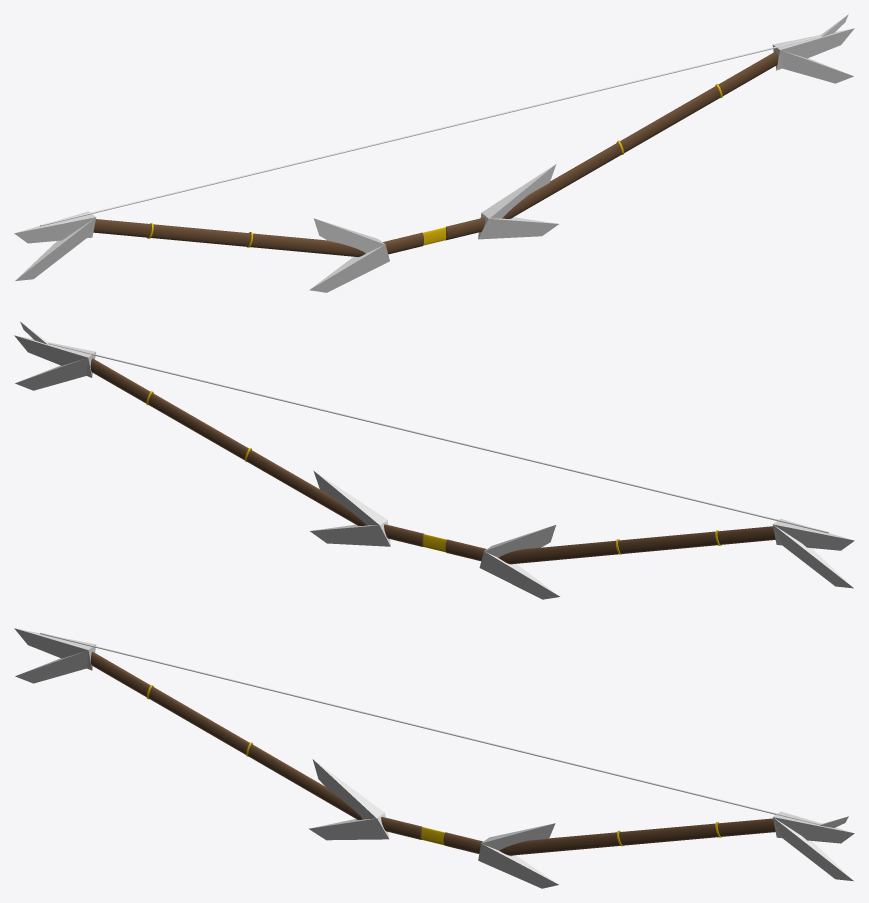
Rendered from Bow.fbx.
The picture shows the model from 3 angles, top to bottom: view 1: azimuth 30°, elevation 25°; view 2: azimuth 150°, elevation 25°; view 3: azimuth 330°, elevation 25°; orthographic projection.
Visible parts, largest first — view 1: pasted__pCube20; view 2: pasted__pCube20; view 3: pasted__pCube20.
Part boxes in pixels (x1=…): pasted__pCube20: x1=14, y1=14, x2=854, y2=292; pasted__pCube20: x1=14, y1=321, x2=854, y2=599; pasted__pCube20: x1=14, y1=628, x2=854, y2=888.
Bounding box in the file's own units: 11.73 × 2.02 × 0.202.
